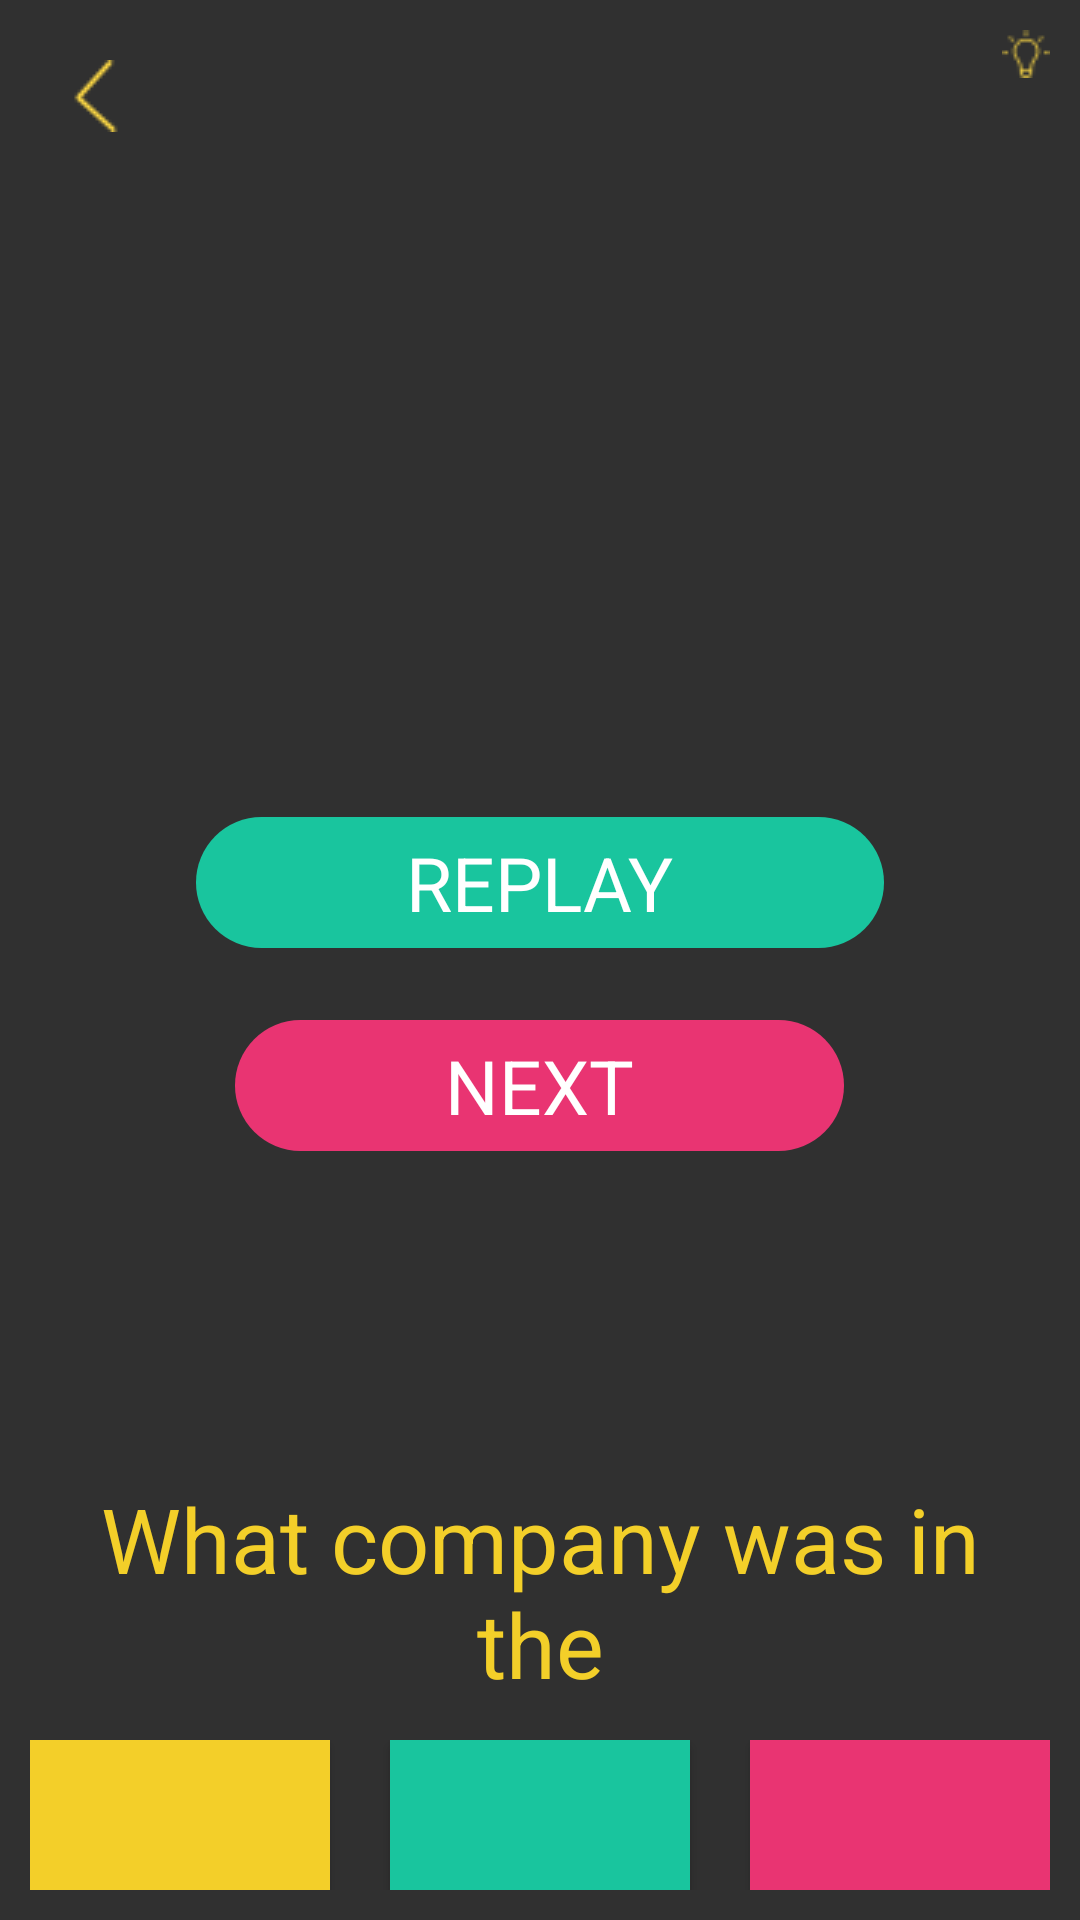

Icons on this 1080px x 1920px Android screen, each with the point to tap as (x=x, y=y):
arrow: (x=95, y=96)
lightbulb: (x=1026, y=54)
